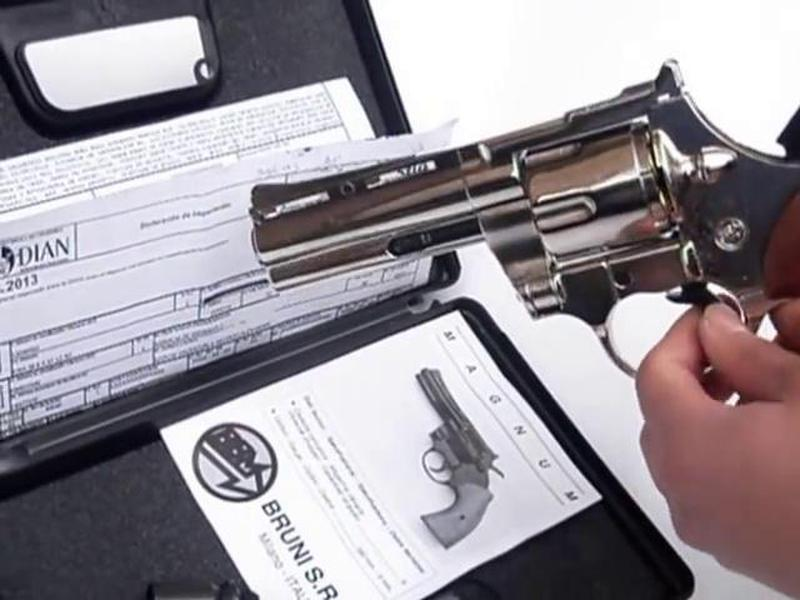Revolver: (237, 56, 793, 404)
